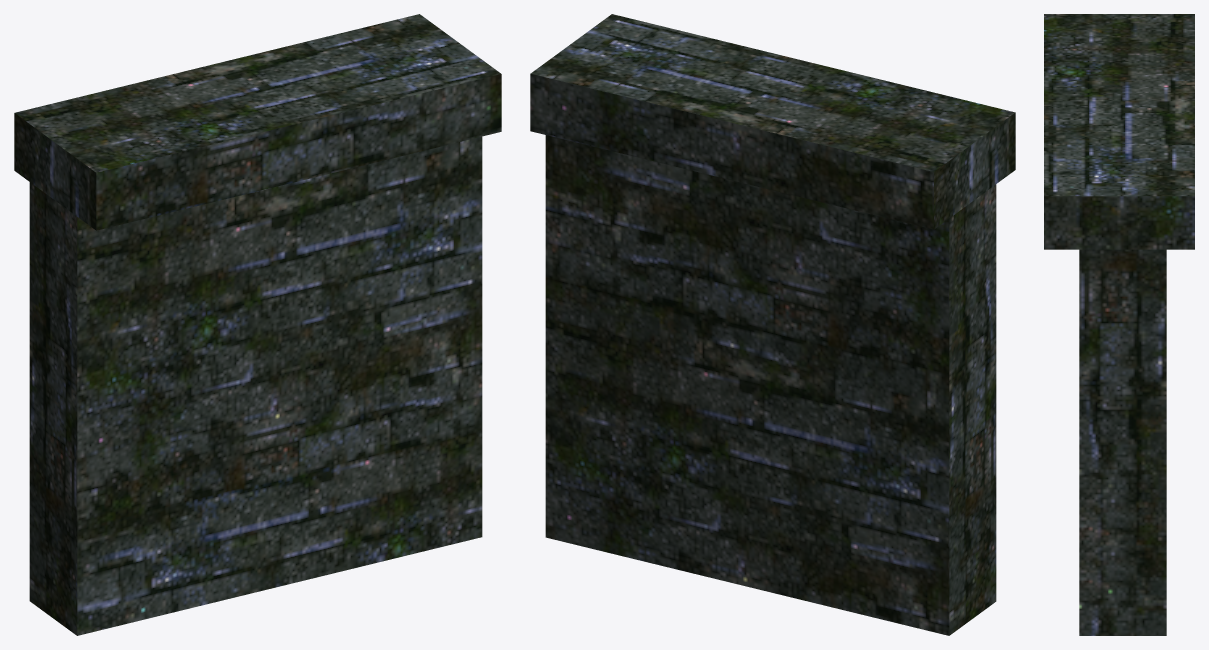
The model's file is wall3.fbx.
The picture shows the model from 3 angles, left to right: view 1: azimuth 30°, elevation 25°; view 2: azimuth 150°, elevation 25°; view 3: azimuth 270°, elevation 25°; orthographic projection. The views are drawn at different scales.
Visible parts, largest first — view 1: wall3_solid; view 2: wall3_solid; view 3: wall3_solid.
Boxes of the visible parts, x1,y1,x2,y2 form: wall3_solid: [14, 14, 501, 635]; wall3_solid: [530, 14, 1015, 635]; wall3_solid: [1044, 14, 1194, 635].
Bounding box in the file's own units: 400 × 450 × 140.
